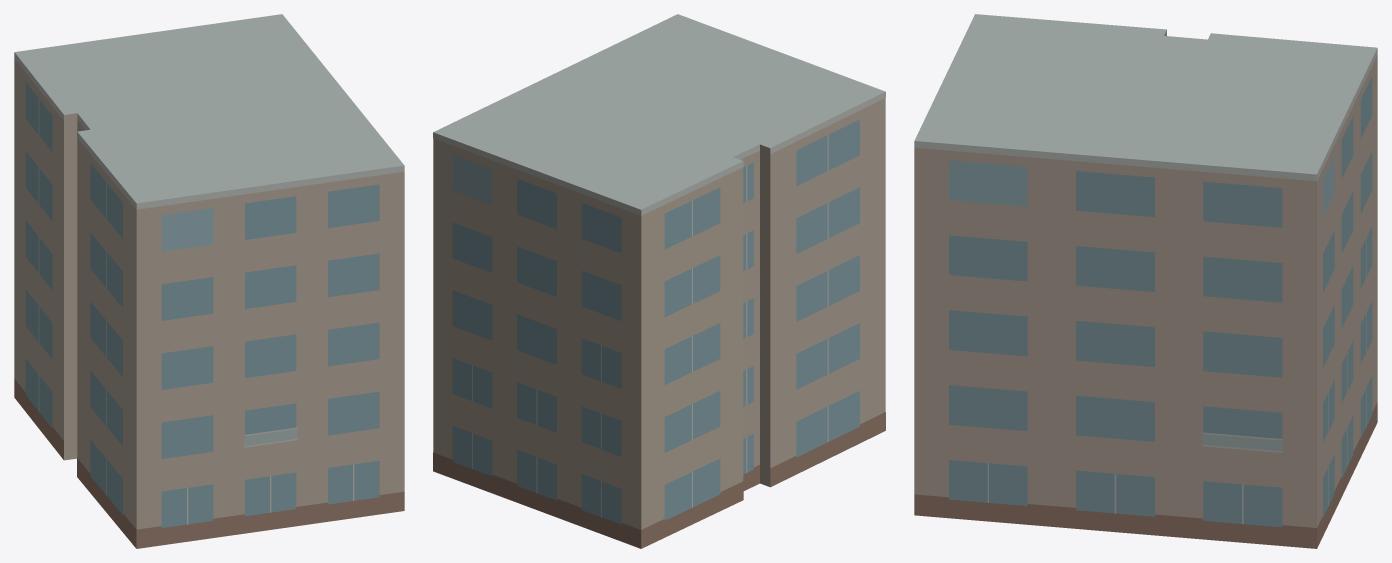
The model's file is survey-upis-32646400.glb.
The picture shows the model from 3 angles, left to right: view 1: azimuth 30°, elevation 25°; view 2: azimuth 150°, elevation 25°; view 3: azimuth 270°, elevation 25°; orthographic projection. The views are drawn at different scales.
Parts seen in each view (by area): view 1: survey-upis-32646400.tmp; view 2: survey-upis-32646400.tmp; view 3: survey-upis-32646400.tmp.
Part boxes in pixels (<box>): survey-upis-32646400.tmp: <box>14,14,404,548</box>; survey-upis-32646400.tmp: <box>433,14,885,548</box>; survey-upis-32646400.tmp: <box>914,14,1377,548</box>.
Bounding box in the file's own units: 12.47 × 13.55 × 15.21.
